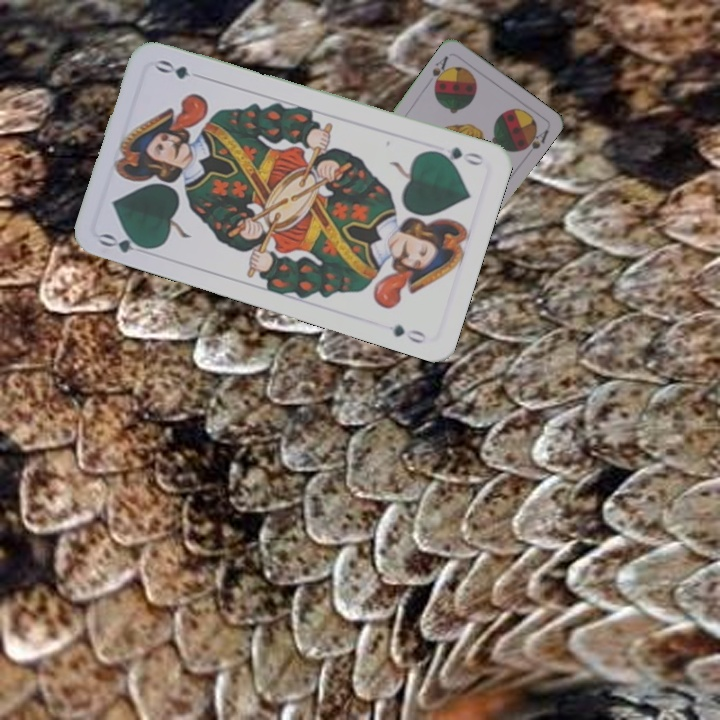GO: (95, 228, 155, 256), (428, 142, 486, 169)
SA: (428, 51, 452, 90)
